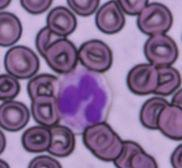N: (55, 67, 112, 129)
